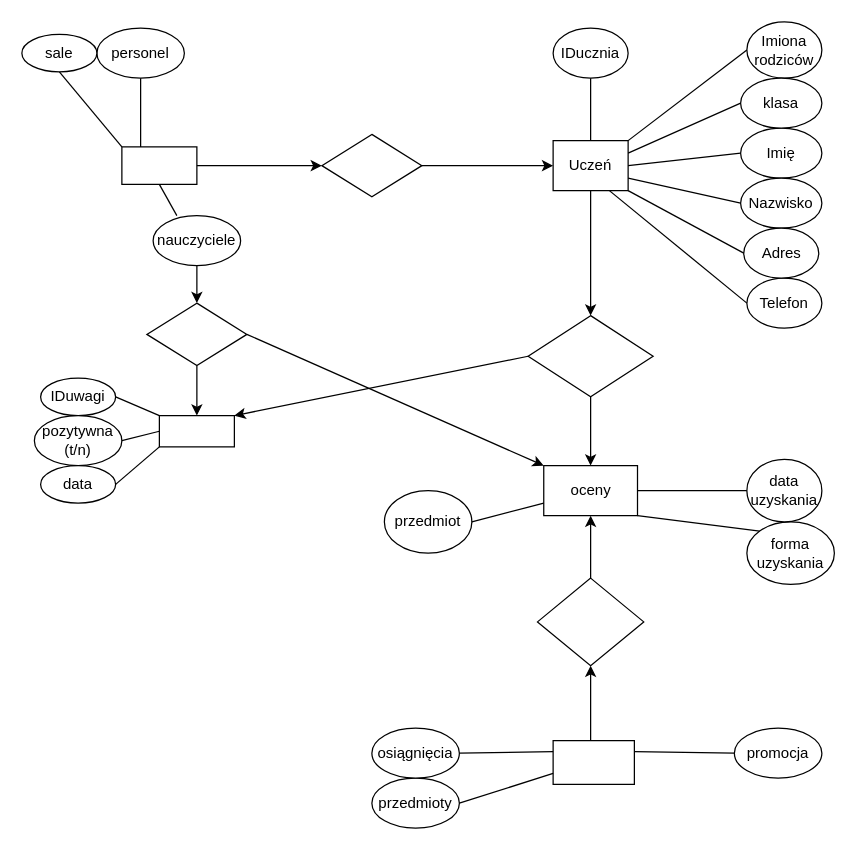
Image size: 856x850. Some labels were removed from this diagram. Each missing label, with the box of its shape:
chodzi: (321, 133, 422, 197)
dostaje: (527, 314, 653, 397)
określają: (536, 577, 644, 666)
szkoła: (121, 146, 197, 184)
uwagi: (158, 414, 234, 447)
wystawiają: (146, 302, 247, 366)
świadectwo: (552, 739, 634, 784)
